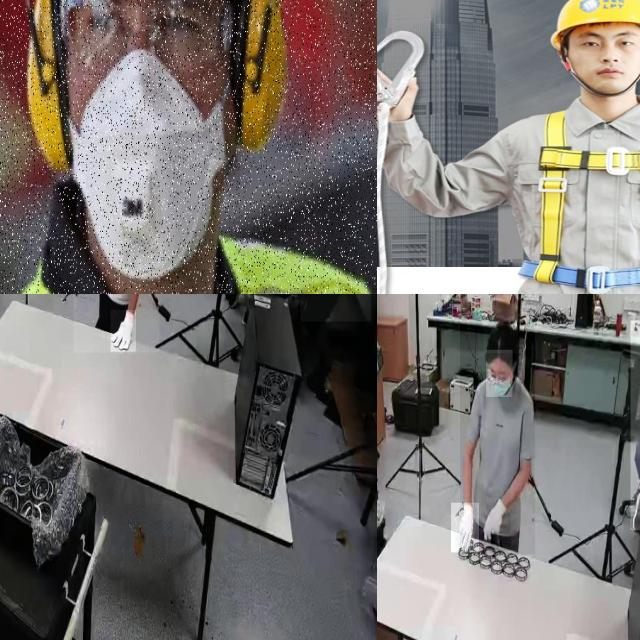Ear-protection: (232, 0, 292, 160), (26, 0, 66, 182)
Harness: (524, 99, 640, 294)
face_mask: (486, 350, 512, 397)
glasses: (56, 0, 220, 72)
hand_glove: (481, 490, 511, 554), (451, 503, 479, 553), (110, 310, 136, 352)
head_nohelmet: (484, 319, 518, 354)
person: (460, 322, 536, 555), (73, 294, 160, 353)
